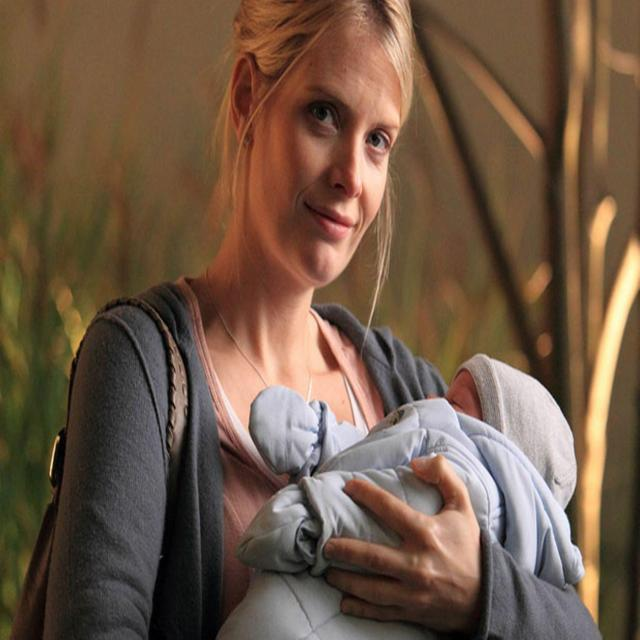no-earmuff: (216, 31, 270, 144)
